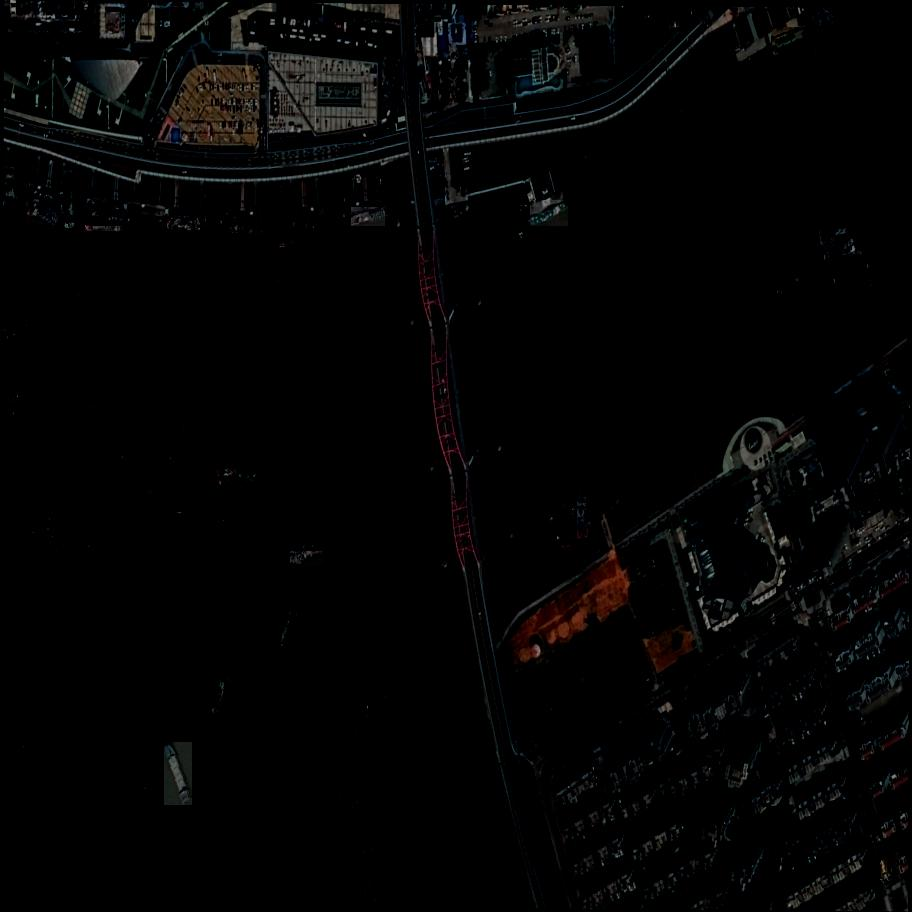large-vehicle: (881, 861, 888, 880)
ship: (163, 743, 194, 806), (267, 186, 296, 247), (551, 495, 579, 545), (778, 264, 811, 299), (529, 200, 571, 227), (563, 496, 589, 538), (838, 270, 870, 302), (769, 28, 811, 52), (209, 192, 229, 241), (150, 483, 188, 507), (277, 606, 296, 653), (824, 235, 858, 261), (544, 502, 563, 547), (832, 248, 863, 275), (835, 255, 862, 286), (349, 207, 388, 228), (85, 207, 125, 227), (26, 202, 59, 226), (290, 545, 327, 566), (145, 496, 187, 514), (843, 259, 868, 289), (63, 170, 76, 227), (828, 243, 860, 266), (285, 216, 325, 234), (562, 498, 579, 540), (823, 231, 854, 253), (577, 492, 588, 539), (341, 187, 353, 230), (288, 538, 327, 551), (75, 185, 87, 225), (818, 226, 852, 240), (168, 219, 202, 233), (215, 673, 226, 715), (26, 200, 64, 212), (86, 220, 121, 233), (218, 469, 260, 479), (6, 167, 17, 205), (30, 812, 41, 850), (846, 283, 873, 297), (230, 224, 264, 235), (206, 193, 212, 231), (578, 235, 591, 244), (155, 217, 166, 224), (517, 232, 525, 236)
